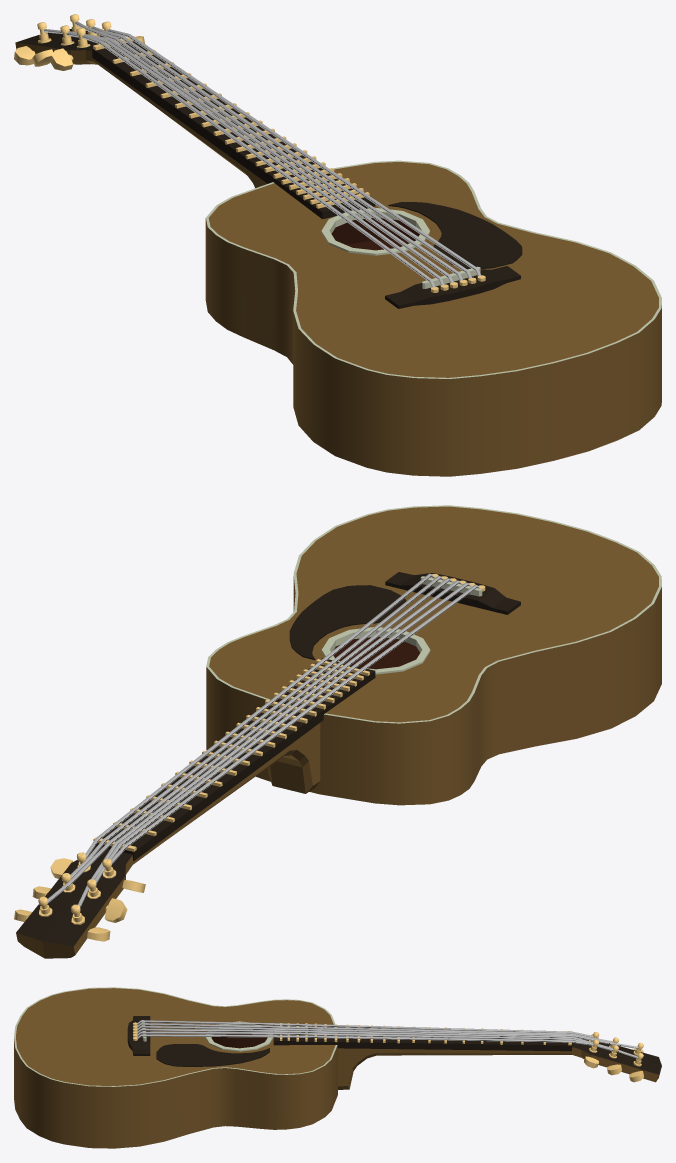
The model's file is Guitar.fbx.
3 renders of one model, top to bottom at view 1: azimuth 30°, elevation 25°; view 2: azimuth 150°, elevation 25°; view 3: azimuth 270°, elevation 25°, orthographic. The views are drawn at different scales.
Visible parts, largest first — view 1: Plane, Cube, Plane.001, Cube.003, Cylinder.015, Cylinder.010, Cylinder.014, Cylinder.013, Cylinder.012, Cylinder.011, Cylinder.016, Cube.002 (+1 smaller); view 2: Plane, Cube, Cube.002, Plane.001, Cube.001, Cylinder.015, Cylinder.014, Cylinder.010, Cylinder.012, Cylinder.011, Cylinder.013, Cube.003 (+1 smaller); view 3: Plane, Cube, Cube.001, Plane.001, Cube.002, Cylinder.010, Cylinder.013, Cylinder.015, Cylinder.014, Cylinder.011, Cylinder.012, Cube.003 (+1 smaller).
Part boxes in pixels (x1,y1,x2,y2): Plane: [205, 160, 661, 476]; Cube: [92, 41, 375, 219]; Plane.001: [388, 202, 522, 269]; Cube.003: [385, 266, 520, 308]; Cylinder.015: [75, 21, 462, 280]; Cylinder.010: [91, 26, 471, 278]; Cylinder.014: [44, 29, 453, 282]; Cylinder.013: [107, 29, 481, 276]; Cylinder.012: [66, 32, 444, 285]; Cylinder.011: [82, 35, 435, 287]; Cylinder.016: [321, 208, 429, 255]; Cube.002: [15, 28, 120, 64]; Plane: [206, 505, 661, 805]; Cube: [95, 658, 375, 861]; Cube.002: [16, 845, 132, 958]; Plane.001: [289, 585, 406, 659]; Cube.001: [132, 723, 320, 864]; Cylinder.015: [47, 578, 452, 903]; Cylinder.014: [78, 580, 461, 907]; Cylinder.010: [70, 576, 443, 878]; Cylinder.012: [94, 582, 471, 883]; Cylinder.011: [111, 585, 480, 864]; Cylinder.013: [85, 573, 434, 858]; Cube.003: [385, 572, 520, 614]; Plane: [14, 987, 337, 1148]; Cube: [273, 1025, 572, 1051]; Cube.001: [338, 1048, 572, 1089]; Plane.001: [156, 1044, 269, 1066]; Cube.002: [572, 1038, 661, 1082]; Cylinder.010: [137, 1031, 613, 1051]; Cylinder.013: [137, 1034, 593, 1045]; Cylinder.015: [137, 1028, 638, 1058]; Cylinder.014: [137, 1025, 638, 1048]; Cylinder.011: [137, 1020, 593, 1037]; Cylinder.012: [137, 1023, 613, 1042]; Cube.003: [127, 1016, 150, 1055].
Bounding box in the file's own units: 352 × 118 × 968.
